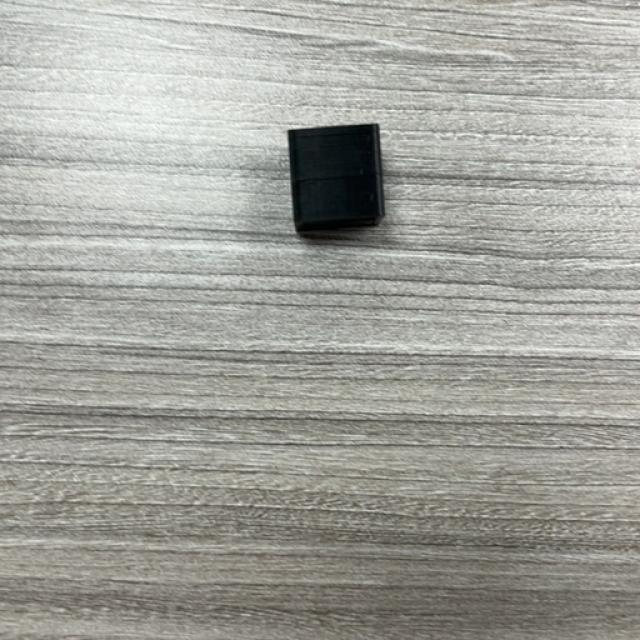Negro: (286, 124, 386, 236)
